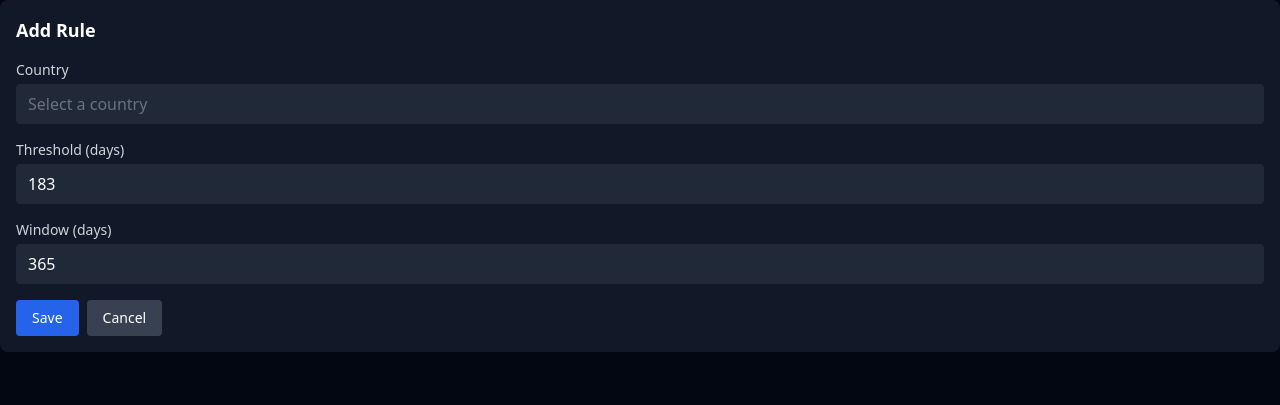
Test case: RuleForm - Add Mode (no initialValues) › shows validation error when window is 0
In the field with placeholder "Select a country": [640, 104] box left=16, top=84, right=1264, bottom=124, type "Canada"
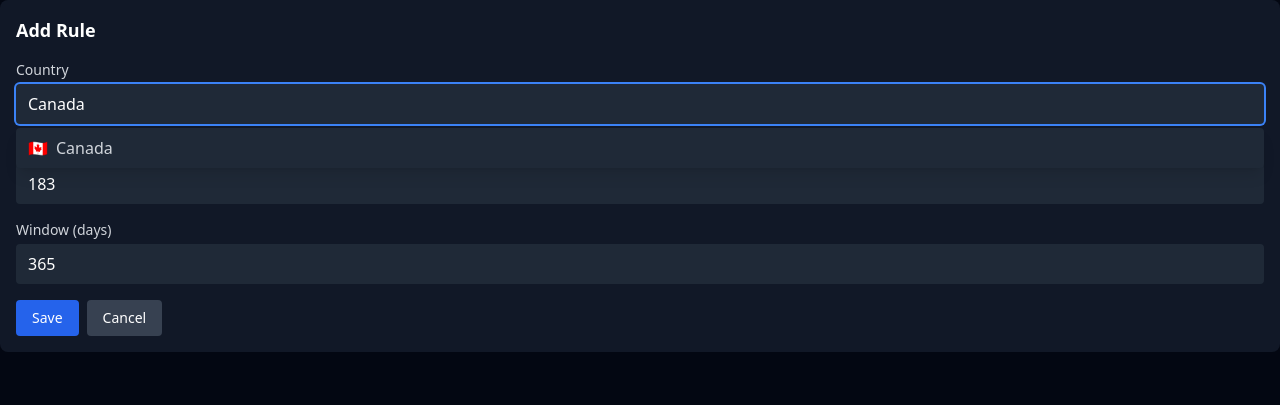
Press the mouse on the text "Canada": [84, 148] box left=56, top=136, right=113, bottom=160
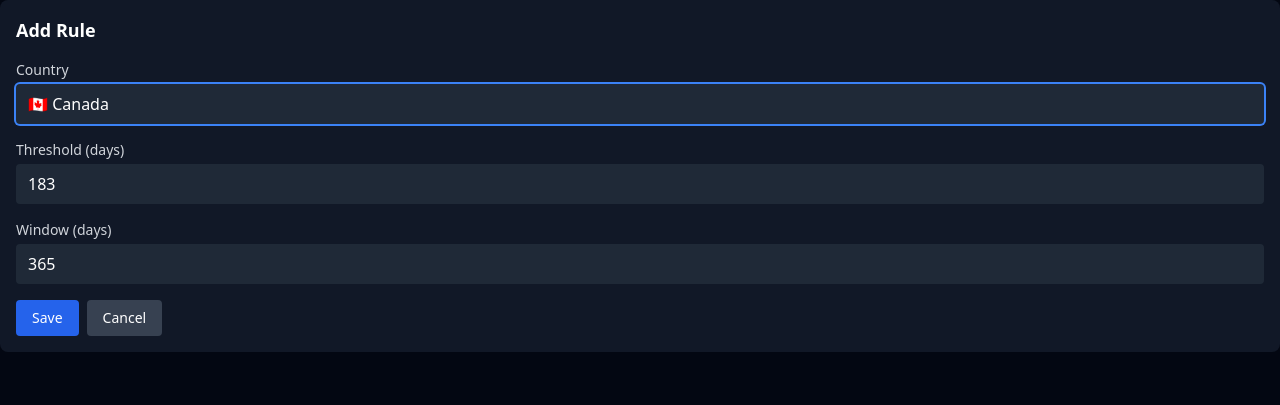
Replace the text in the number field labelled "Window (days)" with "0": [640, 264] box left=16, top=244, right=1264, bottom=284
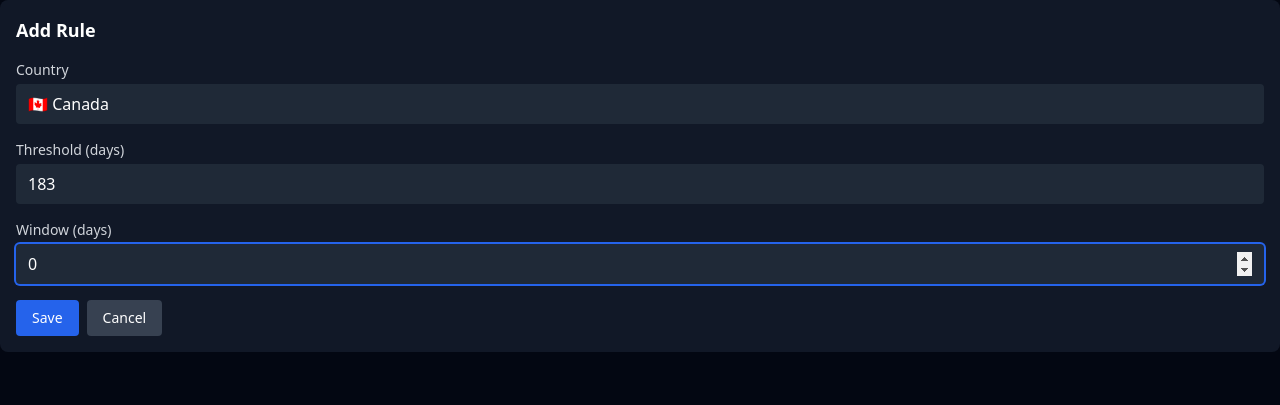
Click the button "Save": [47, 318] box left=16, top=300, right=79, bottom=336
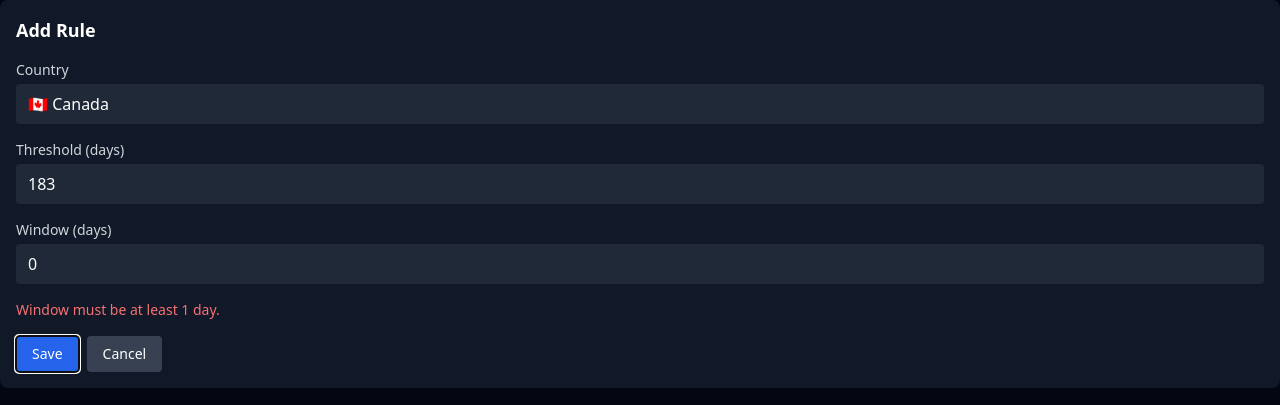
Expected: the text "Window must be at least 1 day." is shown, left=16, top=300, right=220, bottom=319
